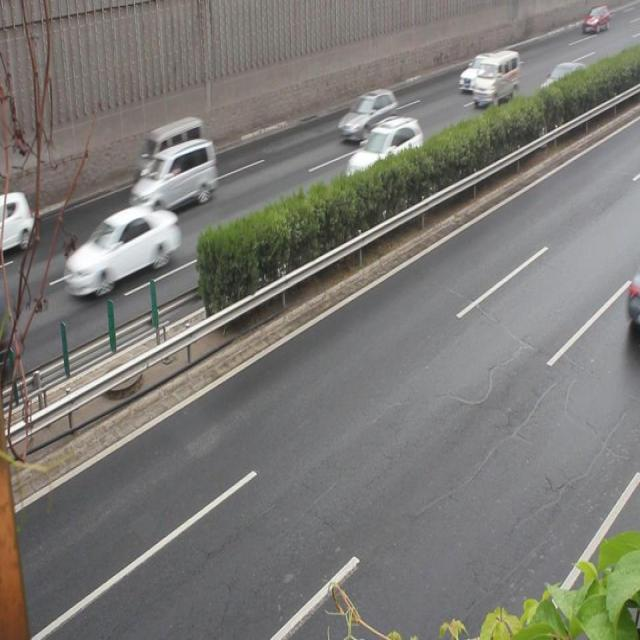car: (63, 206, 178, 297), (344, 117, 422, 189), (337, 89, 398, 146), (536, 62, 592, 119), (457, 53, 500, 95)
truck: (128, 138, 216, 216), (135, 115, 205, 196), (471, 49, 518, 105)
